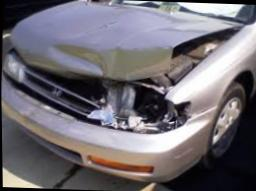Bonnet: (54, 20, 230, 80)
Light: (102, 90, 204, 136)
